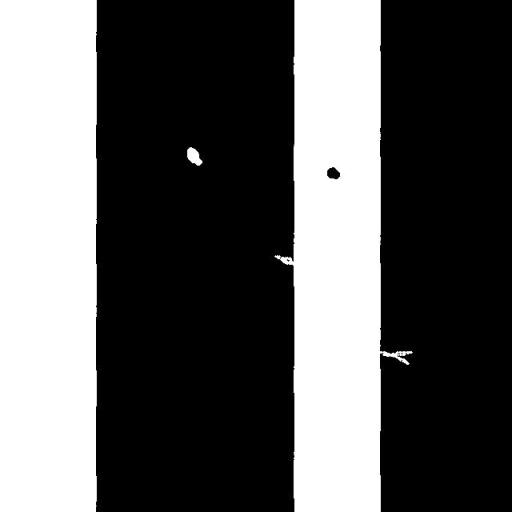copper: (319, 160, 347, 186)
mousebite: (370, 343, 420, 372), (266, 247, 302, 273)
pin-hole: (179, 139, 210, 173)
